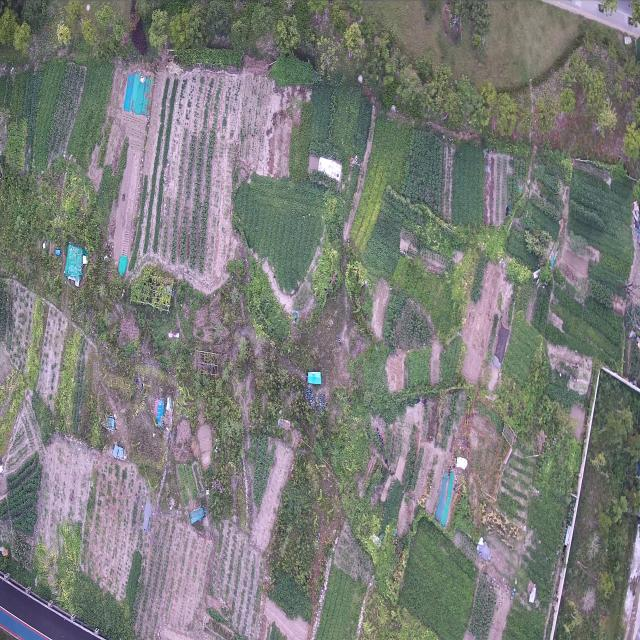UAV: (134, 494, 156, 547)
